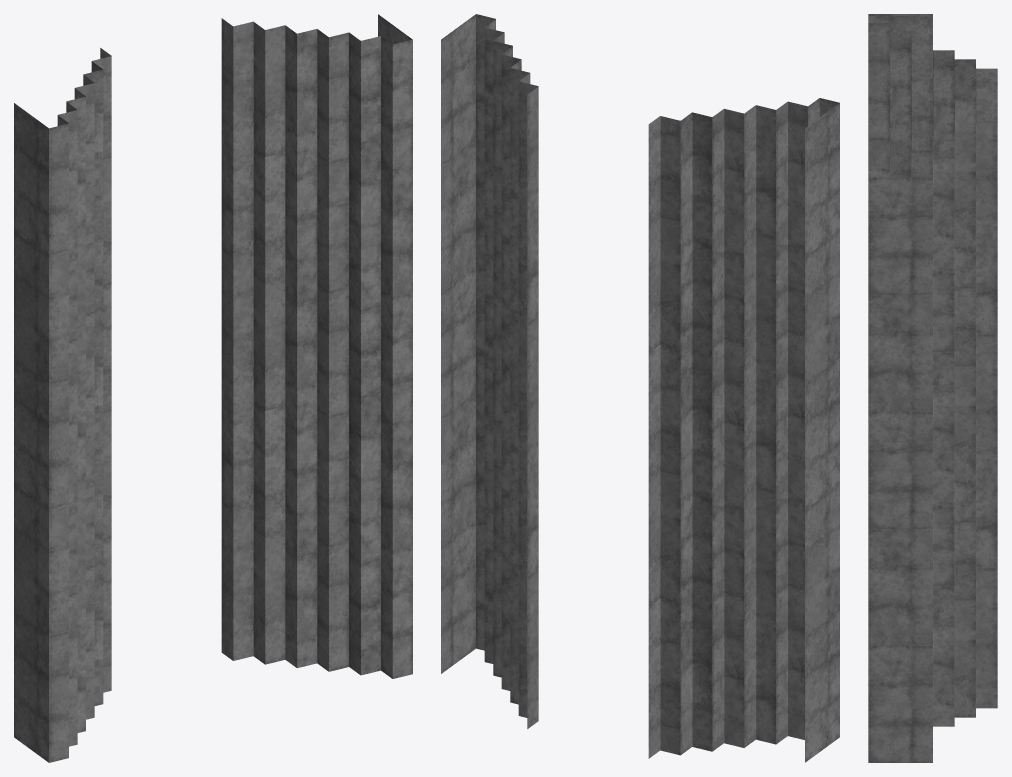
Rendered from SM_Wall_39.fbx.
The picture shows the model from 3 angles, left to right: view 1: azimuth 30°, elevation 25°; view 2: azimuth 150°, elevation 25°; view 3: azimuth 270°, elevation 25°; orthographic projection. The views are drawn at different scales.
Parts seen in each view (by area): view 1: SM_Wall_52; view 2: SM_Wall_52; view 3: SM_Wall_52.
Part boxes in pixels (x1,y1,x2,y2): SM_Wall_52: (14,14,412,762); SM_Wall_52: (441,14,839,762); SM_Wall_52: (868,14,997,762).
Bounding box in the file's own units: 600 × 1000 × 200.
